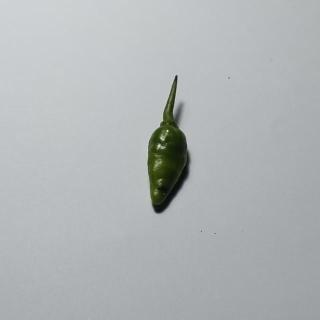Cabai Hijau: (136, 69, 211, 213)
